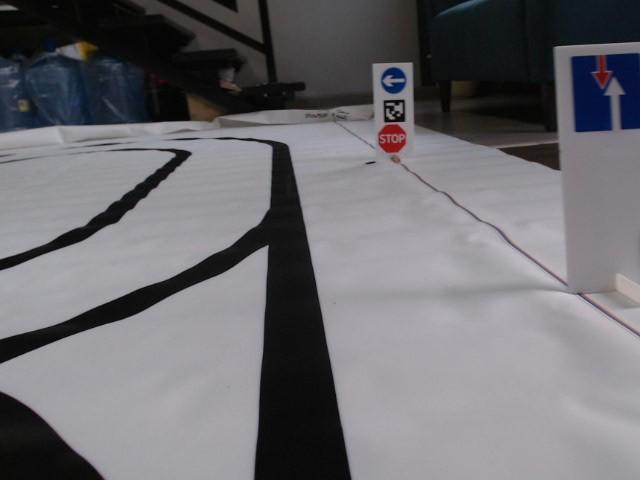Stop: (378, 124, 406, 153)
priority_movement: (566, 50, 639, 139)
